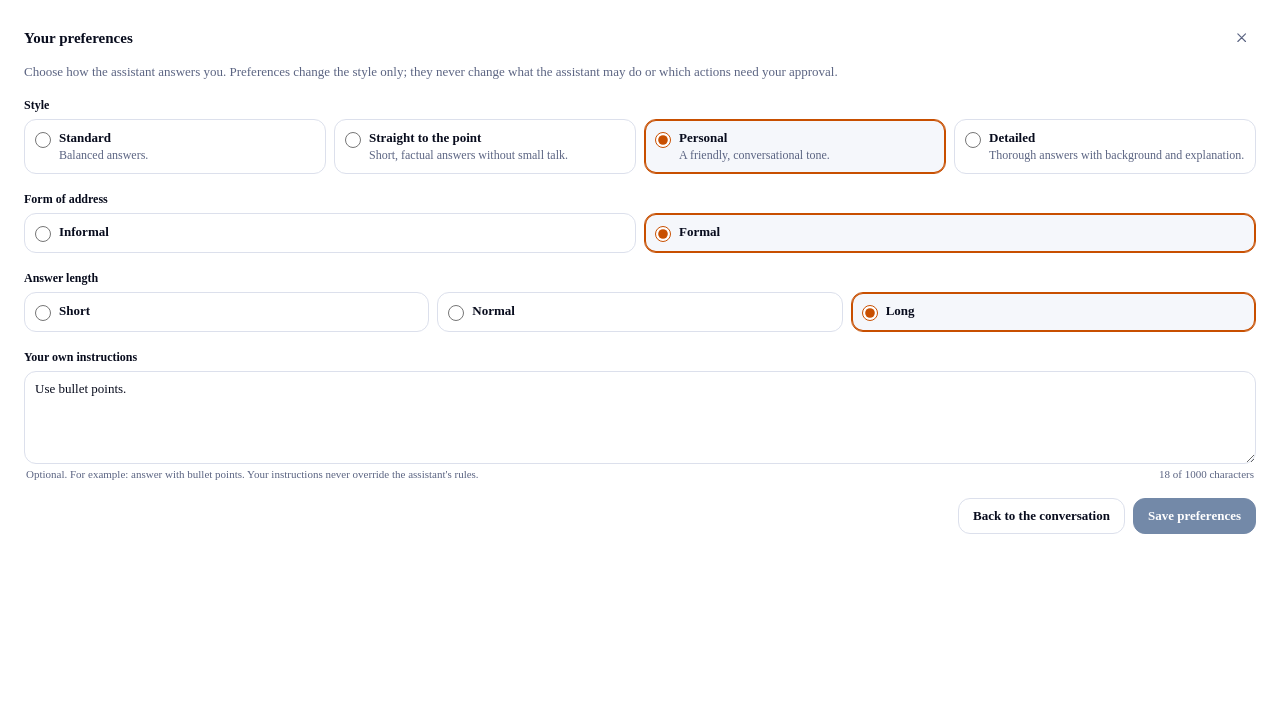
it: NhAssistantPreferencesComponent › shows a translated error when saving fails
Click the 2nd radio button: coordinates (353, 140) [345,132,361,148]
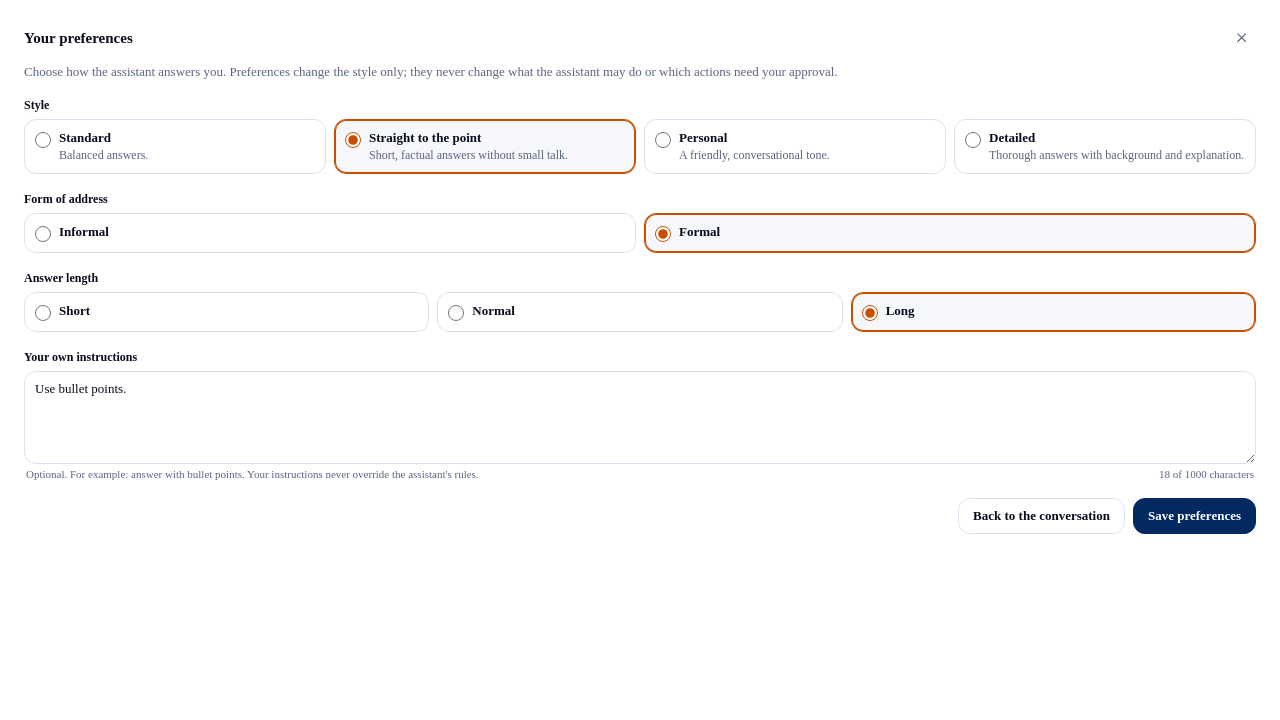
Click the button "Save preferences": coordinates (1194, 516) [1133,498,1256,534]
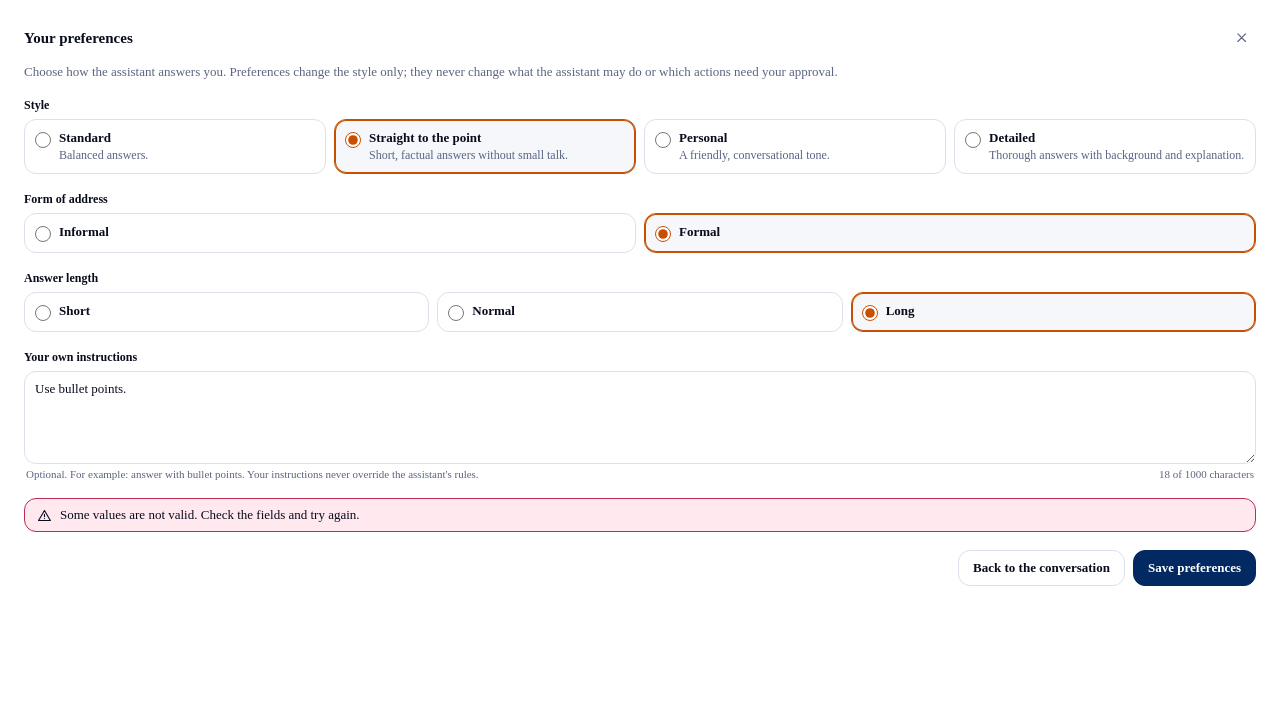
Expected: the button "Save preferences" is enabled, [1133,550,1256,586]
Expected: the message "Some values are not valid. Check the fields and try again." is shown, [24,498,1256,532]
